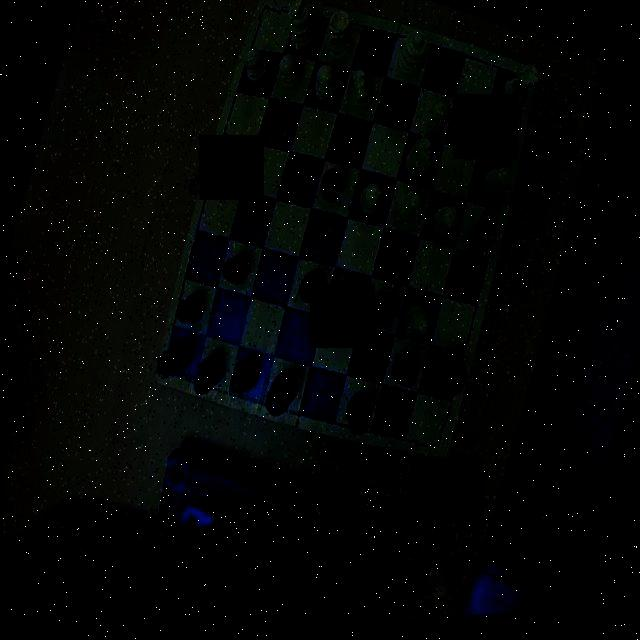chess-table-corners: (412, 422, 452, 466), (152, 350, 192, 393), (504, 68, 541, 110), (251, 0, 285, 35)
